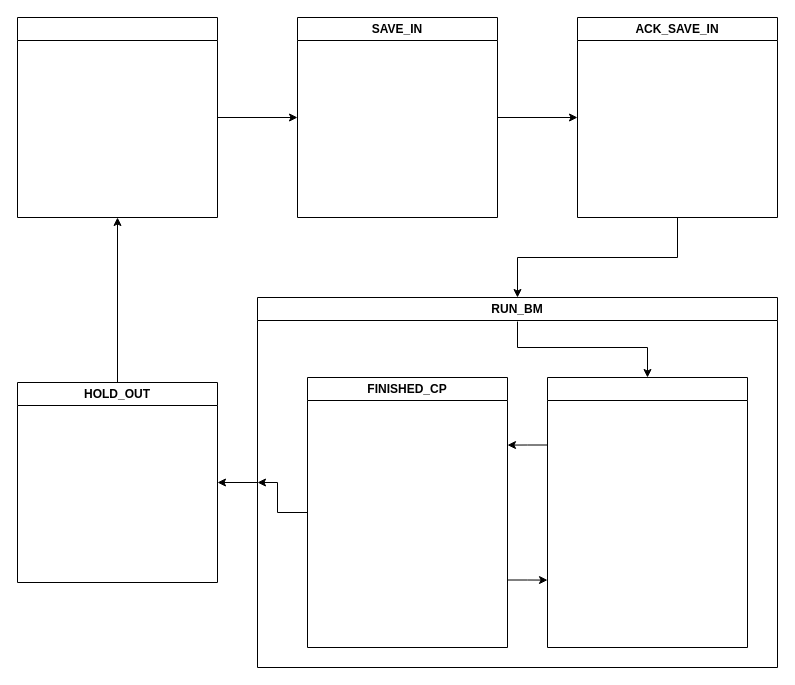
This 795x685 diagram has some shape labels left out. Here are the shapes that lost their labels. From the top down, the centre of each, then its label:
At point (117, 117): "IDLE".
At point (647, 512): "RUN_CP".
